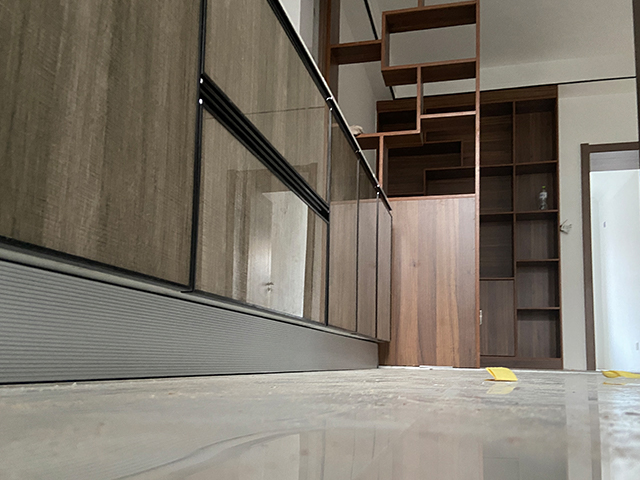cabinet: (1, 1, 394, 386), (317, 188, 553, 372)
